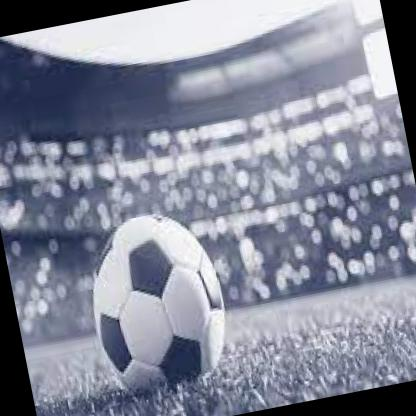ball: (76, 203, 238, 399)
